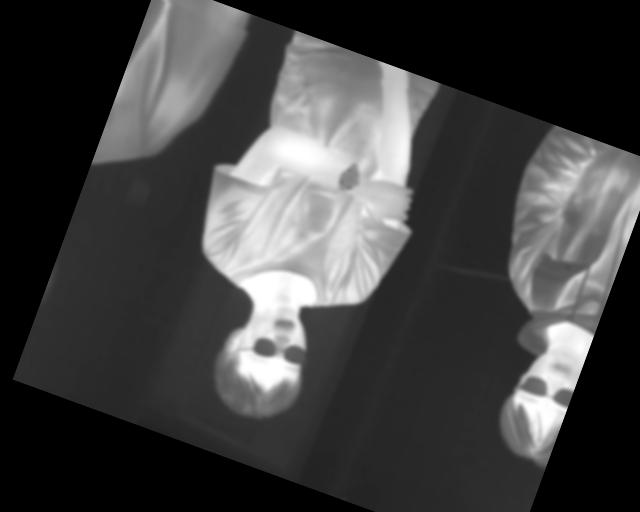face: (203, 290, 326, 432), (486, 338, 584, 470)
